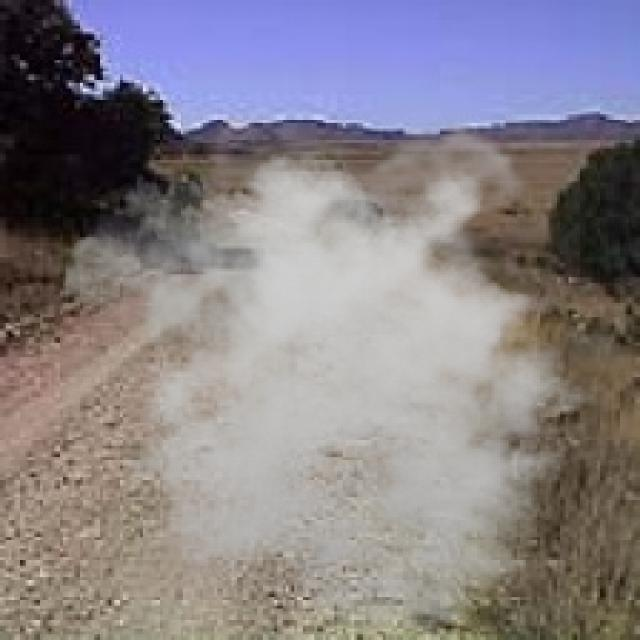Smoke: (65, 117, 620, 634)
